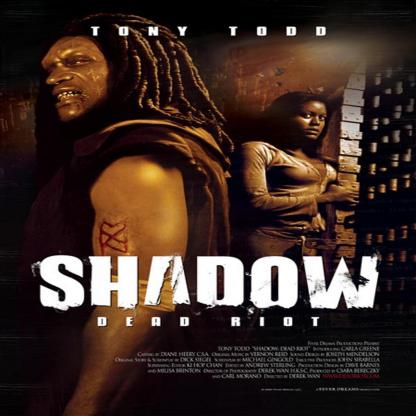face: (42, 39, 121, 120), (284, 98, 327, 139)
